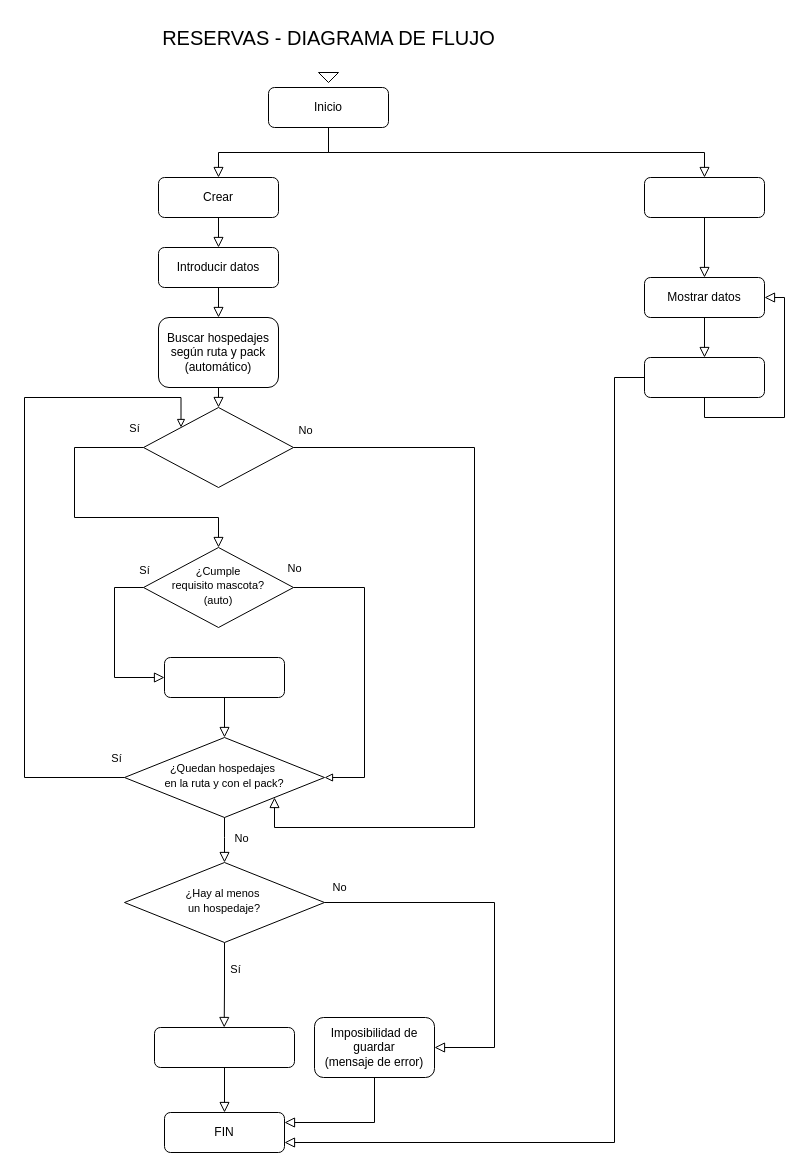
This 812x1170 diagram has some shape labels left out. The centre of each missing label's shape, as x and y in pixels:
"Consultar" goes at pixel 704 197.
"Editar" goes at pixel 704 377.
"Mostrar hospedaje como seleccionable" goes at pixel 224 677.
"Se puede crear/guardar el viaje." goes at pixel 224 1047.
"¿Cumple requisito movilidad? (auto)" goes at pixel 218 447.
